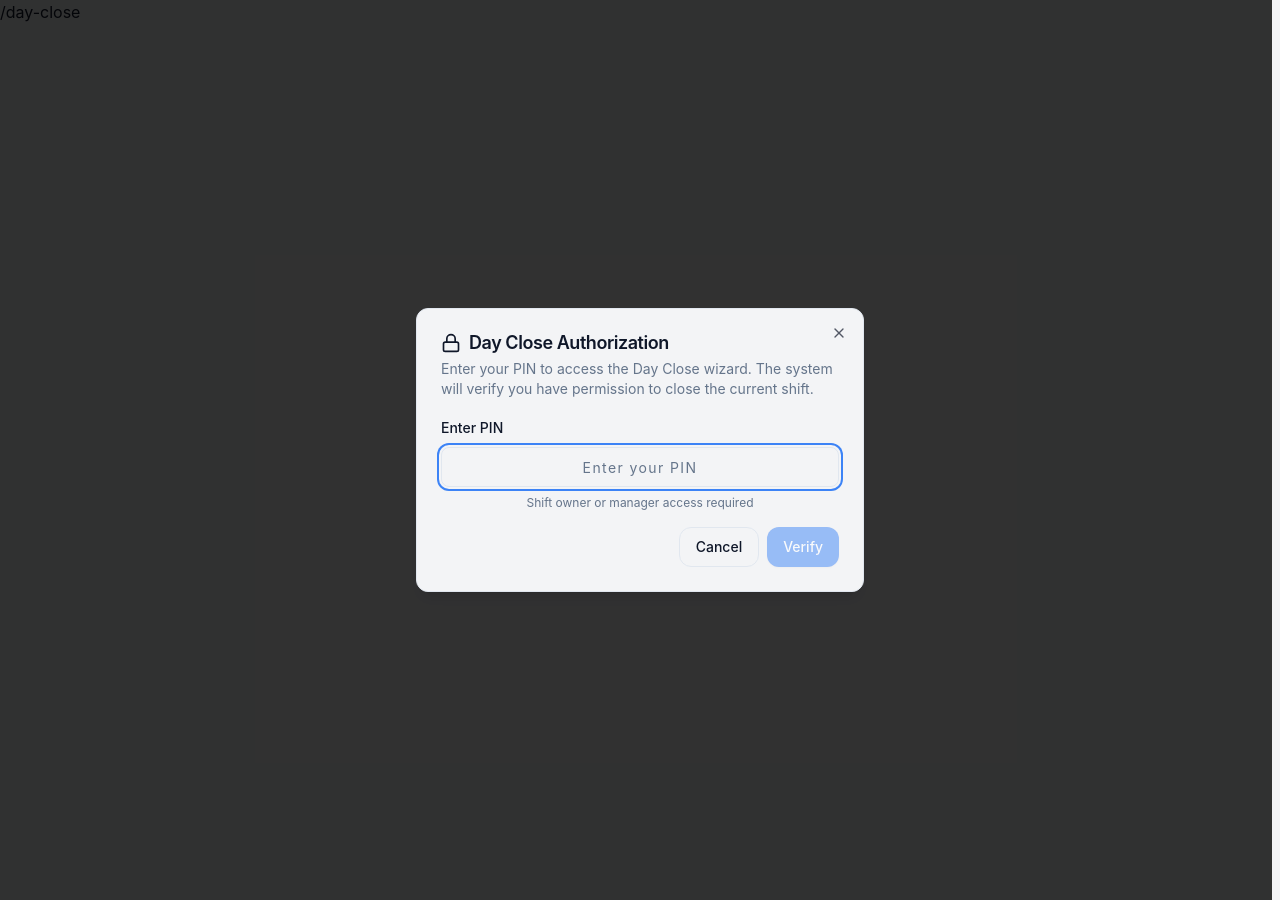
Test case: Shift Close Workflow Security Tests (Phase 5) › 5.1.3: Guard cannot be bypassed via direct URL › should enforce SEC-014 PIN format validation
// Non-numeric input should be filtered
Type "abcd1234" into the password field with test id "day-close-pin-input" at (640, 467), box [441,447,839,487]
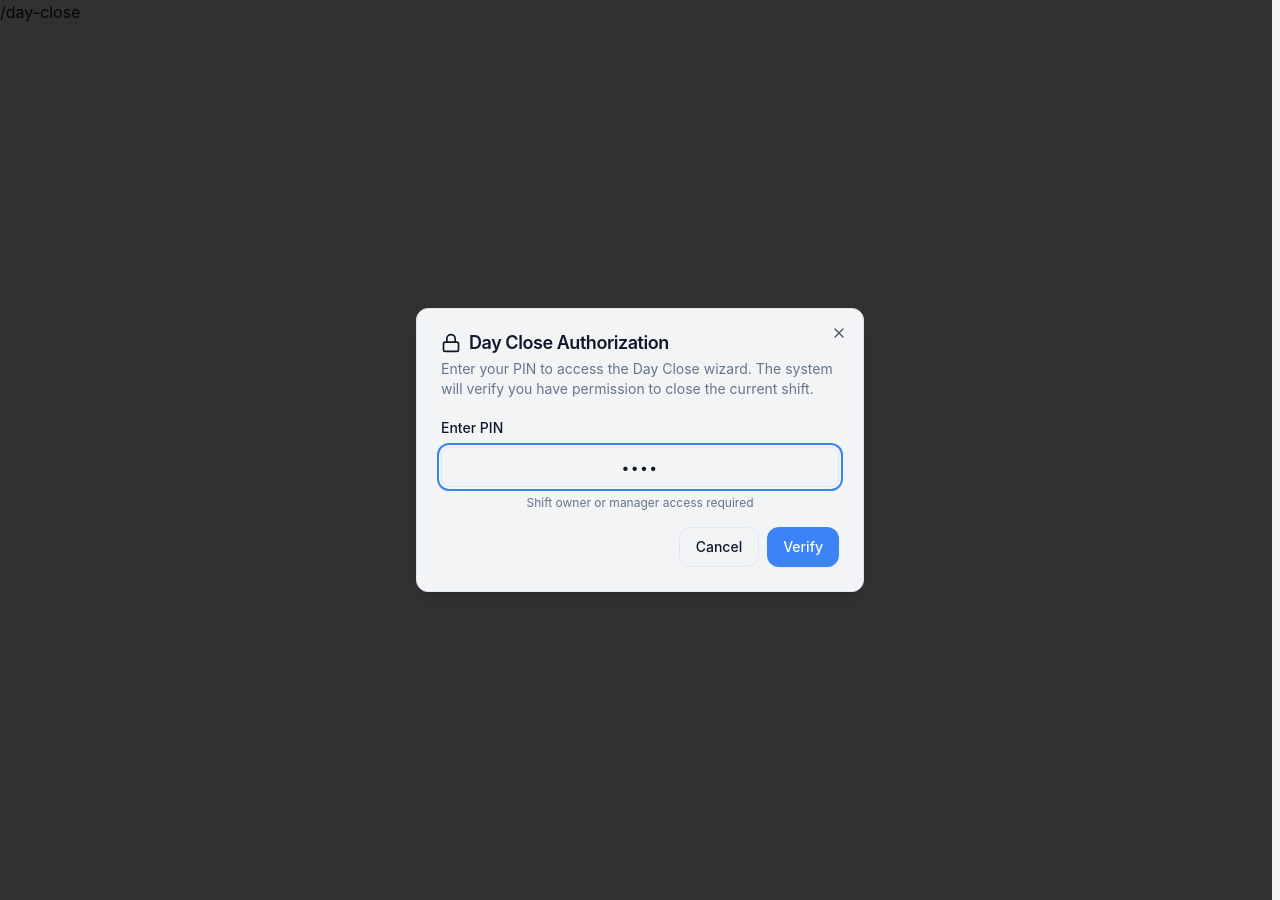
Type "123" into the password field with test id "day-close-pin-input" at (640, 467), box [441,447,839,487]
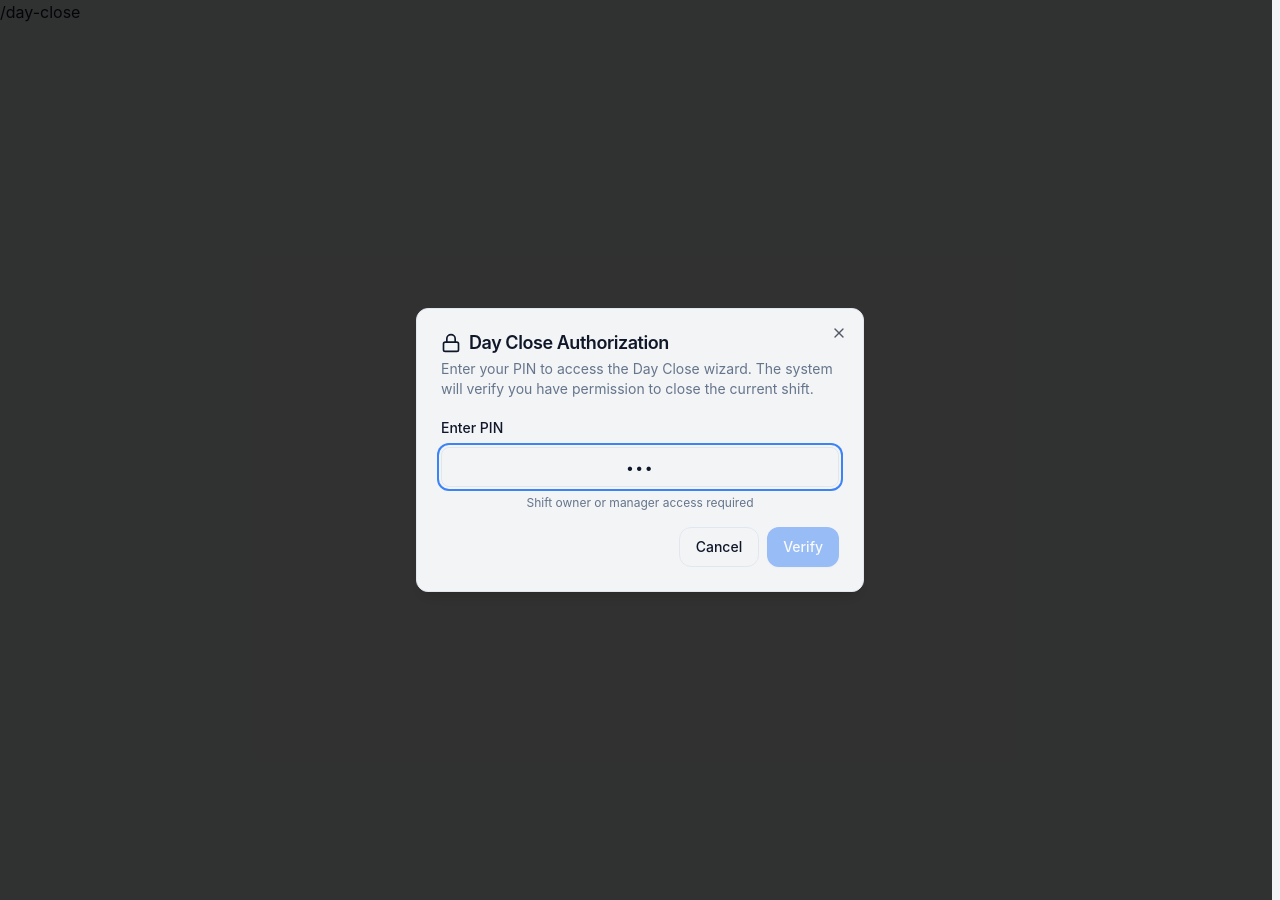
Now the button with test id "day-close-verify-btn" is disabled, box [767,527,839,567]
